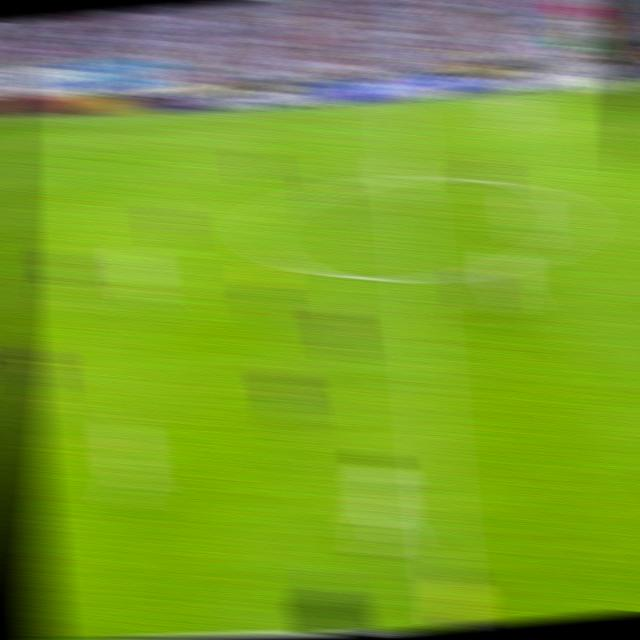halfcircle_bottom: (399, 262, 436, 293)
halfcircle_top: (392, 167, 424, 188)
midline_bottom_intersection: (433, 613, 470, 628)
midline_top_intersection: (386, 97, 415, 113)
